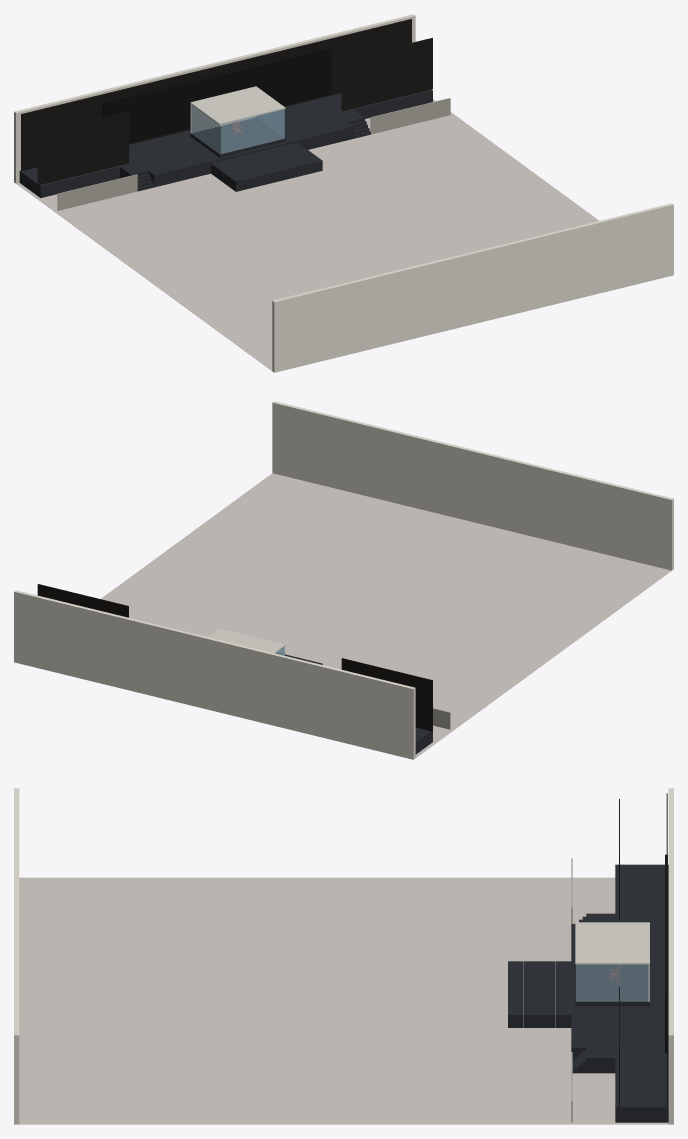
The model's file is haveli-stage.obj.
3 views of the same model, one above another, from view 1: azimuth 30°, elevation 25°; view 2: azimuth 150°, elevation 25°; view 3: azimuth 270°, elevation 25° (orthographic). The views are drawn at different scales.
Visible parts, largest first — view 1: hall_floor, hall_wall_front, led_surface, drape, backstage, curtain_wing_R, curtain_wing_L, main_stage_front, hall_wall_back, cabin_plinth, cabin_roof, cabin_glass_front (+6 smaller); view 2: hall_floor, hall_wall_back, hall_wall_front, curtain_wing_L, curtain_wing_R, cabin_roof; view 3: hall_floor, backstage, cabin_roof, cabin_plinth, cabin_glass_R, main_stage_mid, hall_wall_back, hall_wall_front, main_stage_front, drape, led_carcass.
Boxes of the visible parts, x1,y1,x2,y2 form: hall_floor: [16, 99, 599, 370]; hall_wall_front: [272, 203, 673, 372]; led_surface: [103, 49, 330, 142]; drape: [21, 19, 411, 170]; backstage: [19, 89, 432, 197]; curtain_wing_R: [341, 37, 432, 111]; curtain_wing_L: [37, 112, 128, 185]; main_stage_front: [147, 121, 354, 187]; hall_wall_back: [14, 14, 415, 183]; cabin_plinth: [190, 118, 285, 157]; cabin_roof: [190, 86, 285, 124]; cabin_glass_front: [220, 109, 284, 153]; hall_floor: [101, 473, 671, 757]; hall_wall_back: [14, 590, 415, 759]; hall_wall_front: [272, 401, 673, 570]; curtain_wing_L: [341, 658, 432, 731]; curtain_wing_R: [37, 584, 128, 617]; cabin_roof: [208, 628, 285, 653]; hall_floor: [19, 877, 668, 1124]; backstage: [615, 864, 668, 1122]; cabin_roof: [575, 922, 649, 964]; cabin_plinth: [575, 964, 649, 1006]; cabin_glass_R: [576, 964, 648, 1001]; main_stage_mid: [590, 913, 615, 1073]; hall_wall_back: [668, 788, 673, 1124]; hall_wall_front: [14, 788, 19, 1124]; main_stage_front: [571, 924, 590, 1059]; drape: [666, 793, 667, 1106]; led_carcass: [665, 854, 667, 1053].
Bounding box in the file's own units: 45 × 7.6 × 50.8.
